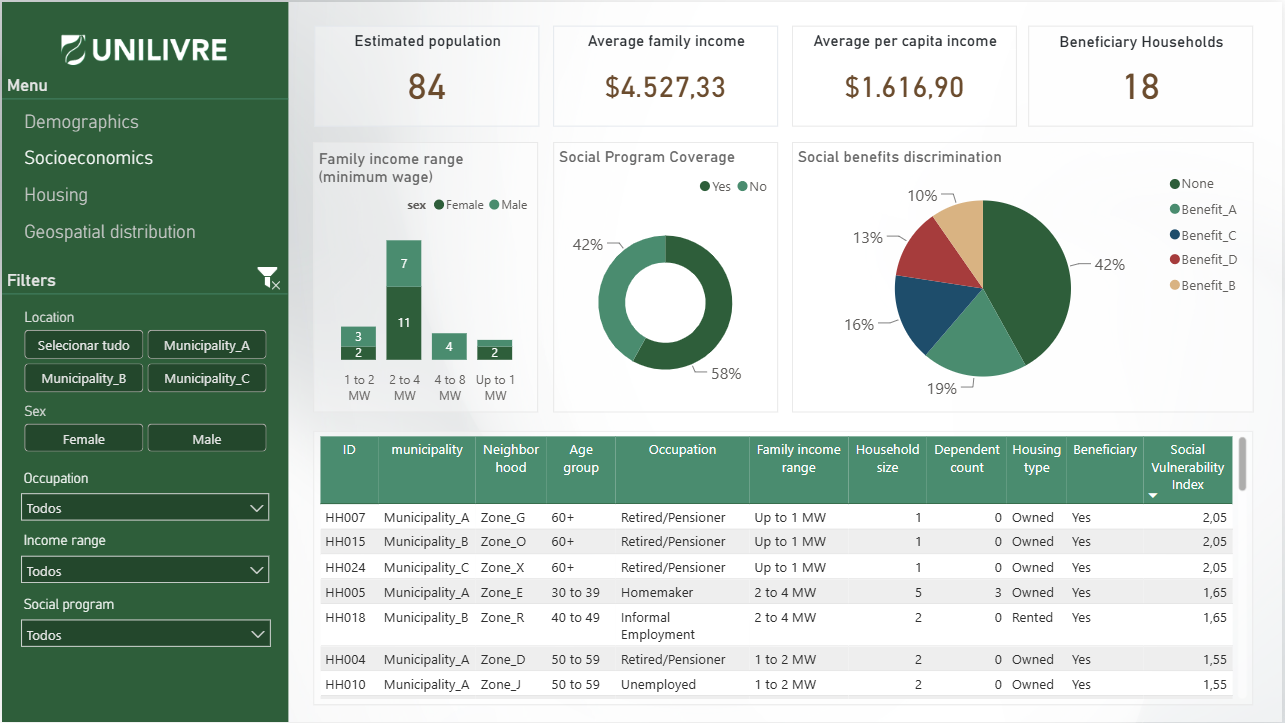

Layout of this report page (visuals, bound fields, positions):
{"tool":"powerbi","page":{"name":"Socioeconomics","canvas":[1280,720],"ordinal":1},"visuals":[{"type":"shape","box":[0,0,286.4,720.4],"z":0},{"type":"cardVisual","title":"Estimated population","fields":{"Data":["Sum(dim_demographics.household_size)"]},"box":[312.4,23.5,225.1,100.8],"z":1000},{"type":"cardVisual","title":"Average family income","fields":{"Data":["Avg(dim_demographics.family_income)"]},"box":[550.7,23.6,225,100.7],"z":2000},{"type":"pieChart","title":"Social benefits discrimination","fields":{"Y":["CountNonNull(dim_social.id_household)"],"Category":["dim_social.program_name"]},"box":[790,140,461.7,270],"z":3000},{"type":"cardVisual","title":"Average per capita income","fields":{"Data":["select"]},"box":[789.5,23.5,225.1,100.8],"z":4000},{"type":"columnChart","title":"Family income range (minimum wage)","fields":{"Category":["dim_demographics.family_income_range"],"Y":["CountNonNull(dim_demographics.id_household)"],"Series":["dim_demographics.sex"]},"box":[311.7,140,225,270],"z":5000},{"type":"cardVisual","title":"Beneficiary Households","fields":{"Data":["CountNonNull(dim_social.is_beneficiary)"]},"box":[1026.4,23.5,225.1,100.8],"z":6000},{"type":"donutChart","title":"Social Program Coverage","fields":{"Y":["CountNonNull(dim_social.id_household)"],"Category":["dim_social.is_beneficiary"]},"box":[550.7,140,225,270],"z":7000},{"type":"tableEx","title":"Faixa de renda em salários-mínimos","fields":{"Values":["dim_demographics.id_household","dim_location.municipality","dim_demographics.neighborhood","dim_demographics.age_group","dim_demographics.occupation","dim_demographics.family_income_range","Sum(dim_demographics.household_size)","Sum(dim_demographics.dependents_count)","dim_demographics.housing_type","dim_social.is_beneficiary","fact_households.vulnerability_index"]},"box":[311.8,429.3,939.9,274.1],"z":16000},{"type":"image","box":[39.2,0,207.9,87.4],"z":16001},{"type":"slicer","fields":{"Values":["dim_demographics.occupation"]},"box":[8.6,461.9,268.6,71.4],"z":16002},{"type":"slicer","fields":{"Values":["dim_demographics.family_income_range"]},"box":[8.6,524.8,268.6,71.4],"z":16003},{"type":"slicer","fields":{"Values":["dim_social.program_name"]},"box":[8.6,589.1,270,72.9],"z":16004},{"type":"textbox","title":"Filters","box":[0,267.2,285.7,52.9],"z":16005},{"type":"textbox","title":"Menu","box":[0,72.3,286.2,52.7],"z":16006},{"type":"image","box":[250,265,34.2,22.4],"z":16007},{"type":"advancedSlicerVisual","title":"Sex","fields":{"Values":["households_sample.sex"]},"box":[17.1,400.6,252.6,55.3],"z":16008},{"type":"advancedSlicerVisual","title":"Location","fields":{"Values":["dim_demographics.municipality"]},"box":[17.1,305.8,252.6,89.5],"z":16009},{"type":"pageNavigator","title":"NAVEGAÇÃO","box":[12.1,99.5,259.4,149.3],"z":16010}]}

Visuals, with their boxes in screenshot pixels (x1, y1, x2, y2), scaled from the page's 1280x720 canvas onto the 1285x723 screenshot:
shape: <region>0, 0, 288, 722</region>
"Estimated population" cardVisual: <region>314, 24, 540, 125</region>
"Average family income" cardVisual: <region>553, 24, 779, 125</region>
"Social benefits discrimination" pieChart: <region>793, 141, 1257, 412</region>
"Average per capita income" cardVisual: <region>793, 24, 1019, 125</region>
"Family income range (minimum wage)" columnChart: <region>313, 141, 539, 412</region>
"Beneficiary Households" cardVisual: <region>1030, 24, 1256, 125</region>
"Social Program Coverage" donutChart: <region>553, 141, 779, 412</region>
"Faixa de renda em salários-mínimos" tableEx: <region>313, 431, 1257, 706</region>
image: <region>39, 0, 248, 88</region>
slicer - dim_demographics.occupation: <region>9, 464, 278, 536</region>
slicer - dim_demographics.family_income_range: <region>9, 527, 278, 599</region>
slicer - dim_social.program_name: <region>9, 592, 280, 665</region>
"Filters" textbox: <region>0, 268, 287, 321</region>
"Menu" textbox: <region>0, 73, 287, 126</region>
image: <region>251, 266, 285, 289</region>
"Sex" advancedSlicerVisual: <region>17, 402, 271, 458</region>
"Location" advancedSlicerVisual: <region>17, 307, 271, 397</region>
"NAVEGAÇÃO" pageNavigator: <region>12, 100, 273, 250</region>
